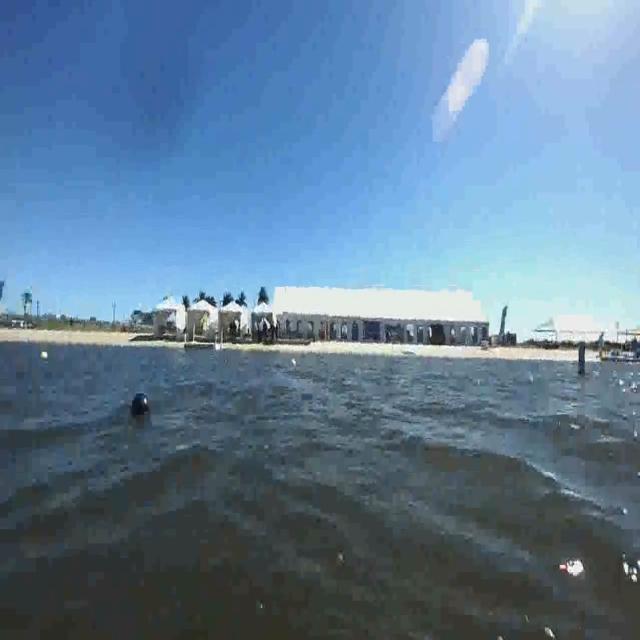black-buoy: (132, 395, 150, 419)
yellow-buoy: (39, 346, 48, 359)
